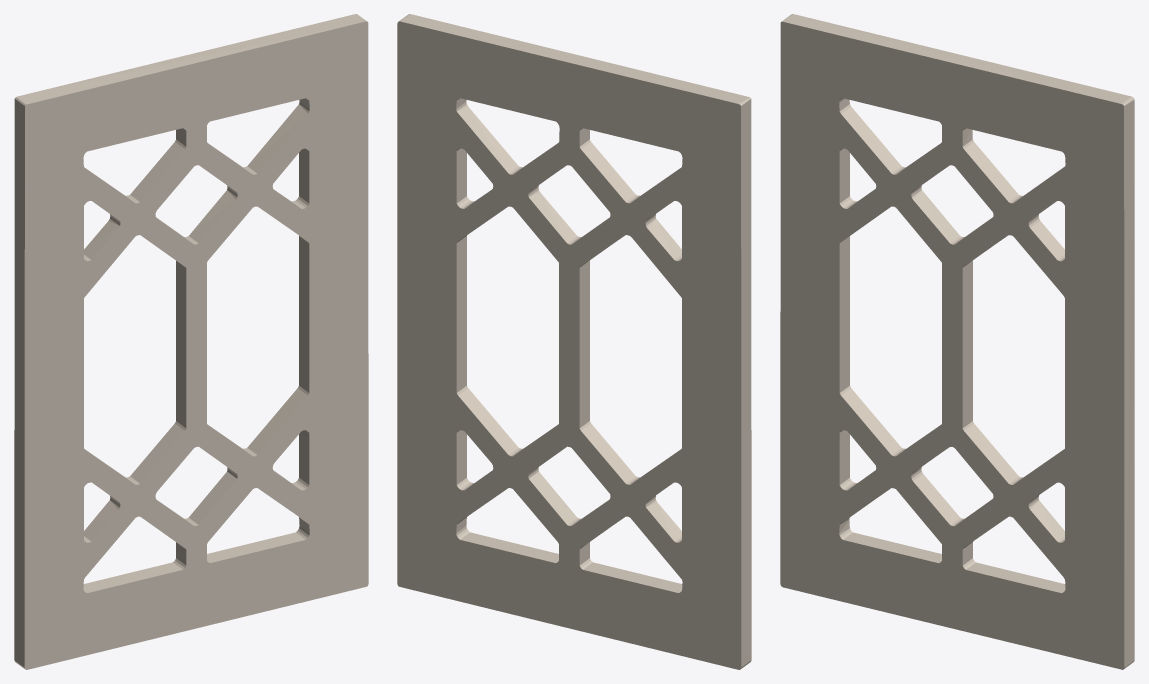
Rendered from nrd-cam-108.glb.
The picture shows the model from 3 angles, left to right: view 1: azimuth 30°, elevation 25°; view 2: azimuth 150°, elevation 25°; view 3: azimuth 330°, elevation 25°; orthographic projection.
Parts seen in each view (by area): view 1: NRD CAM 108; view 2: NRD CAM 108; view 3: NRD CAM 108.
Part boxes in pixels (x1,y1,x2,y2): NRD CAM 108: (14,14,368,669); NRD CAM 108: (397,14,751,669); NRD CAM 108: (780,14,1134,669).
Size of the model in its own units: 0.3499 by 0.5499 by 0.018.
